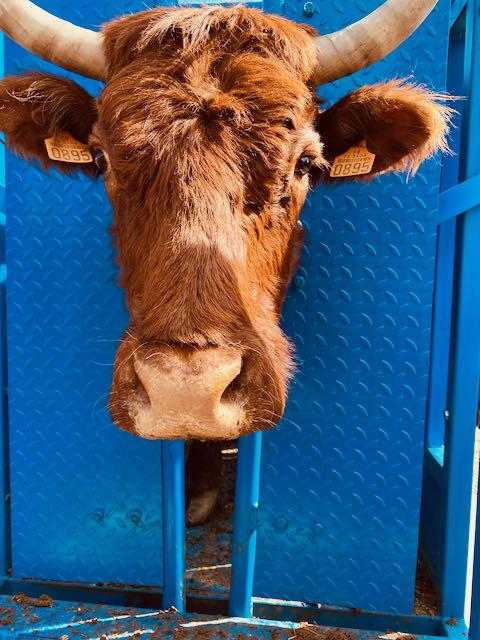muzzles: (99, 328, 292, 448)
